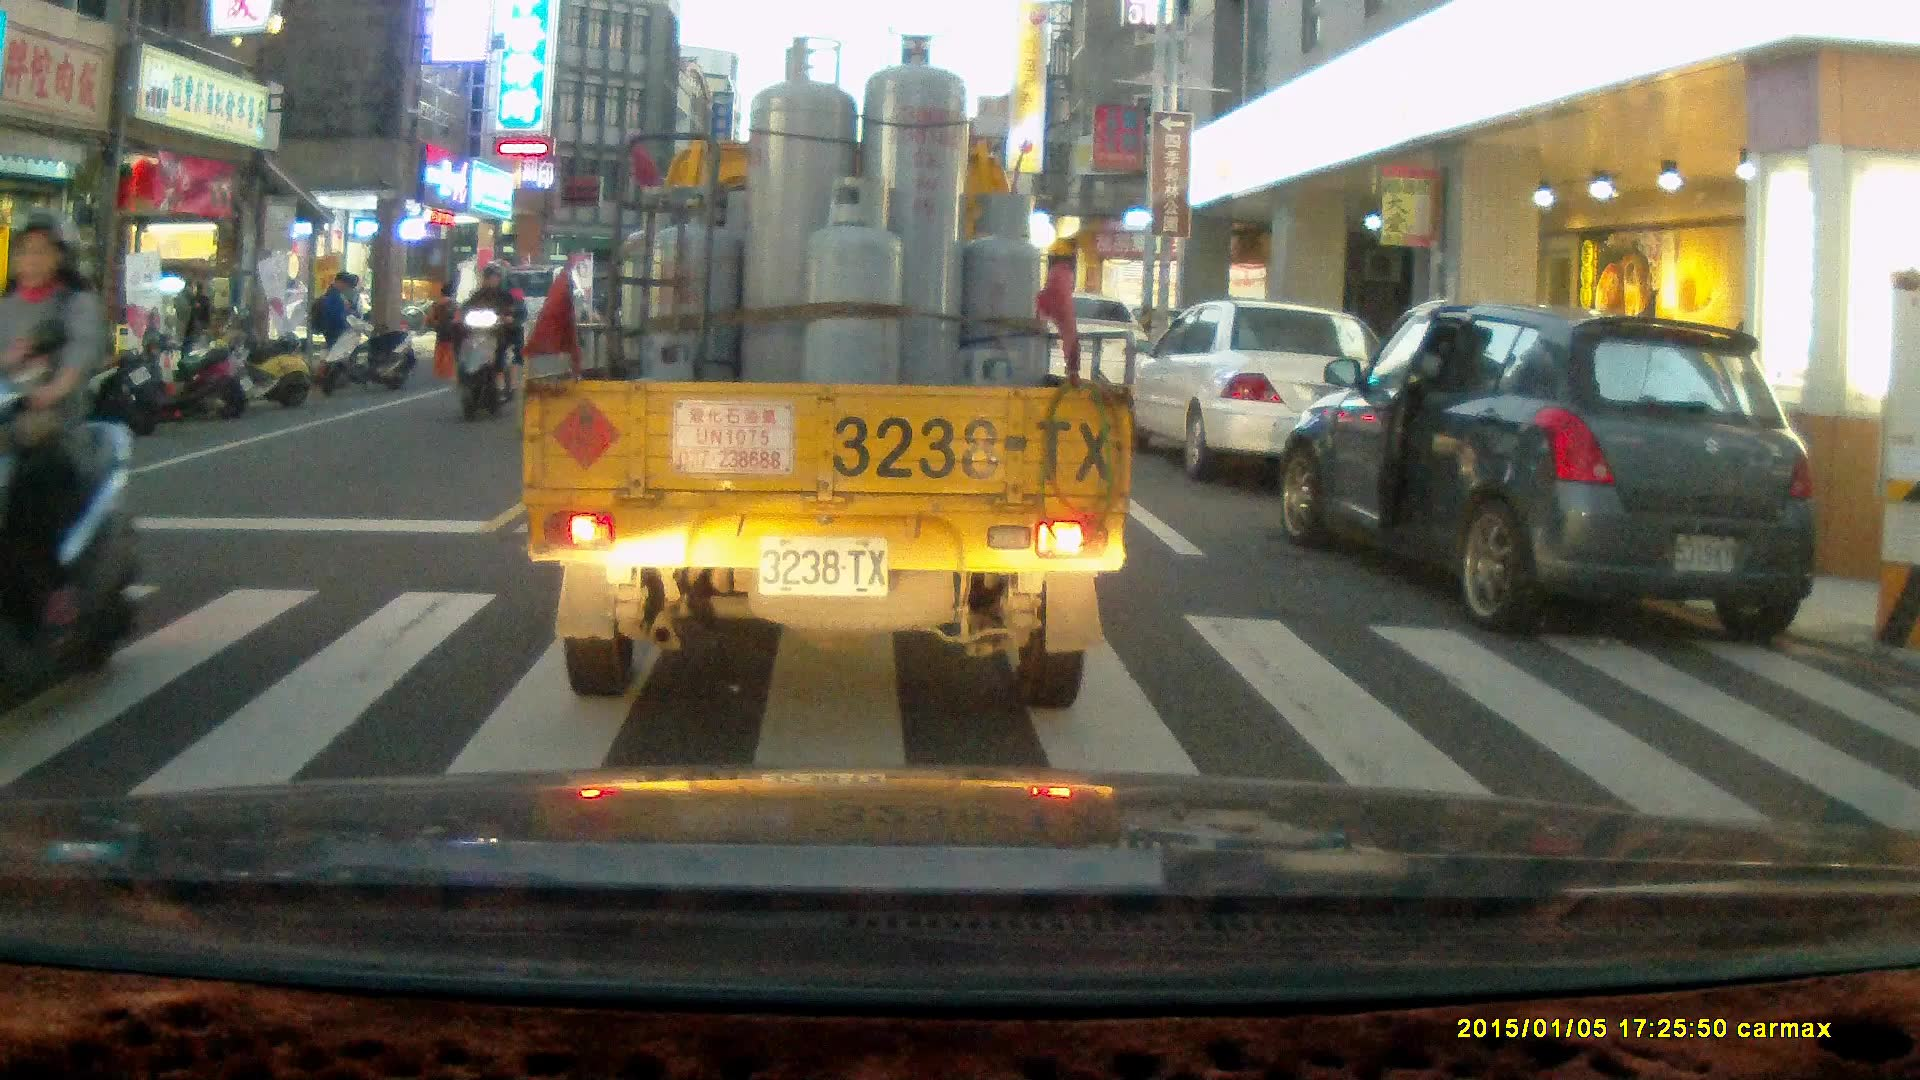pedestrian: (316, 270, 352, 385), (425, 280, 466, 378), (167, 278, 202, 387)
rider: (0, 202, 142, 716), (454, 263, 520, 419)
vehicle: (515, 64, 1137, 710), (1281, 307, 1826, 649), (1120, 301, 1392, 483), (1026, 295, 1160, 413), (461, 269, 586, 364)
